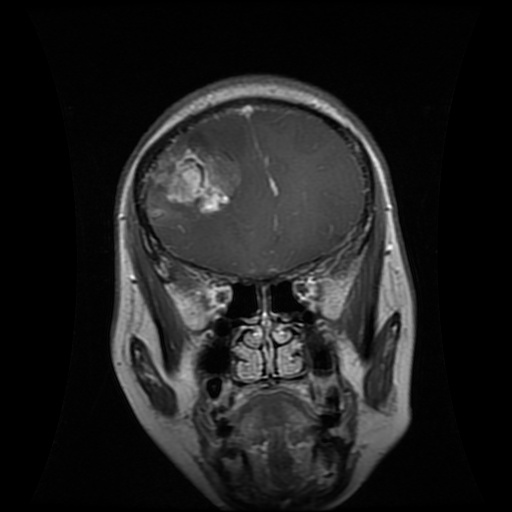glioma: (146, 138, 240, 229)
